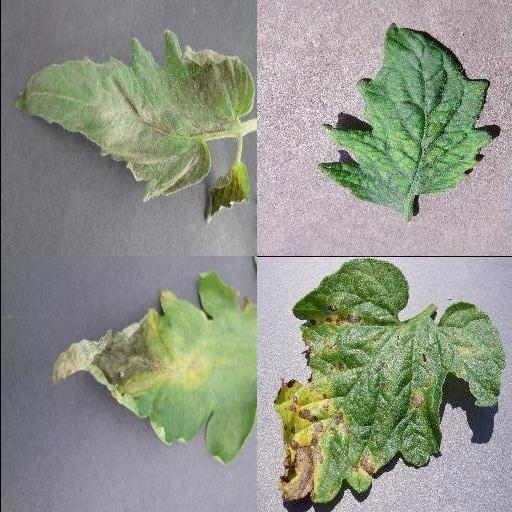Late Blight: (12, 27, 256, 198), (52, 271, 256, 467), (199, 161, 251, 221)
Mosaic Virus: (319, 23, 493, 213)
Septoria: (275, 256, 504, 505)
